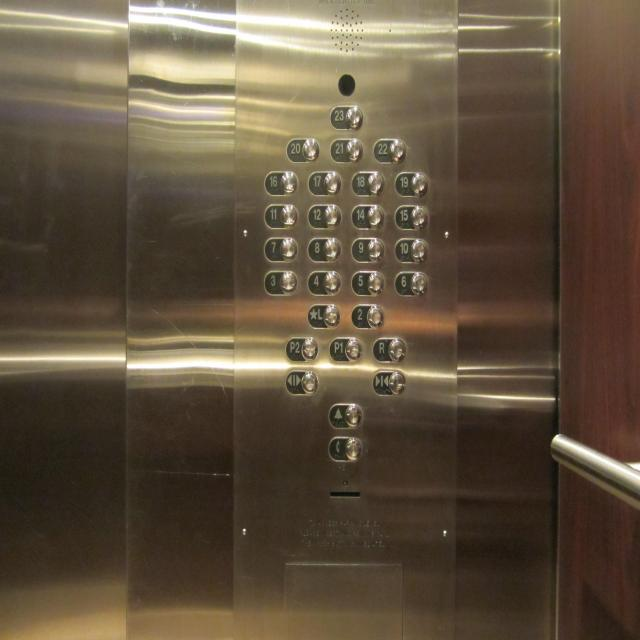10: (394, 237, 428, 265)
11: (263, 203, 299, 230)
12: (307, 202, 342, 230)
14: (350, 203, 386, 231)
15: (394, 204, 429, 232)
16: (264, 169, 298, 198)
17: (307, 170, 342, 198)
18: (350, 170, 386, 198)
19: (394, 171, 428, 198)
2: (350, 303, 385, 331)
20: (286, 138, 320, 164)
21: (330, 137, 364, 165)
22: (372, 137, 407, 165)
23: (329, 105, 363, 132)
3: (262, 270, 298, 298)
4: (306, 269, 342, 298)
5: (350, 269, 385, 298)
6: (393, 271, 429, 297)
7: (264, 236, 298, 264)
8: (306, 236, 342, 264)
9: (350, 237, 385, 264)
P1: (328, 336, 362, 364)
P2: (284, 336, 320, 363)
R: (371, 336, 407, 364)
alarm: (327, 402, 363, 431)
call: (327, 435, 363, 464)
close: (371, 369, 407, 397)
open: (284, 369, 320, 397)
sL: (306, 303, 342, 330)
